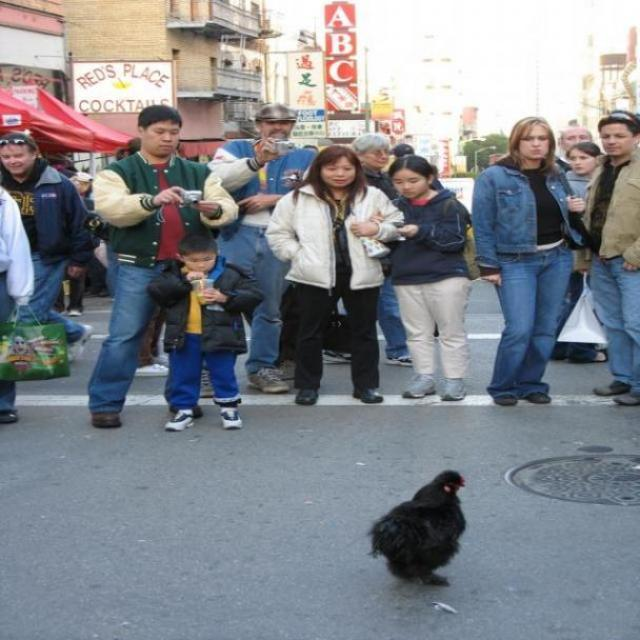Chicken: (364, 462, 481, 593)
